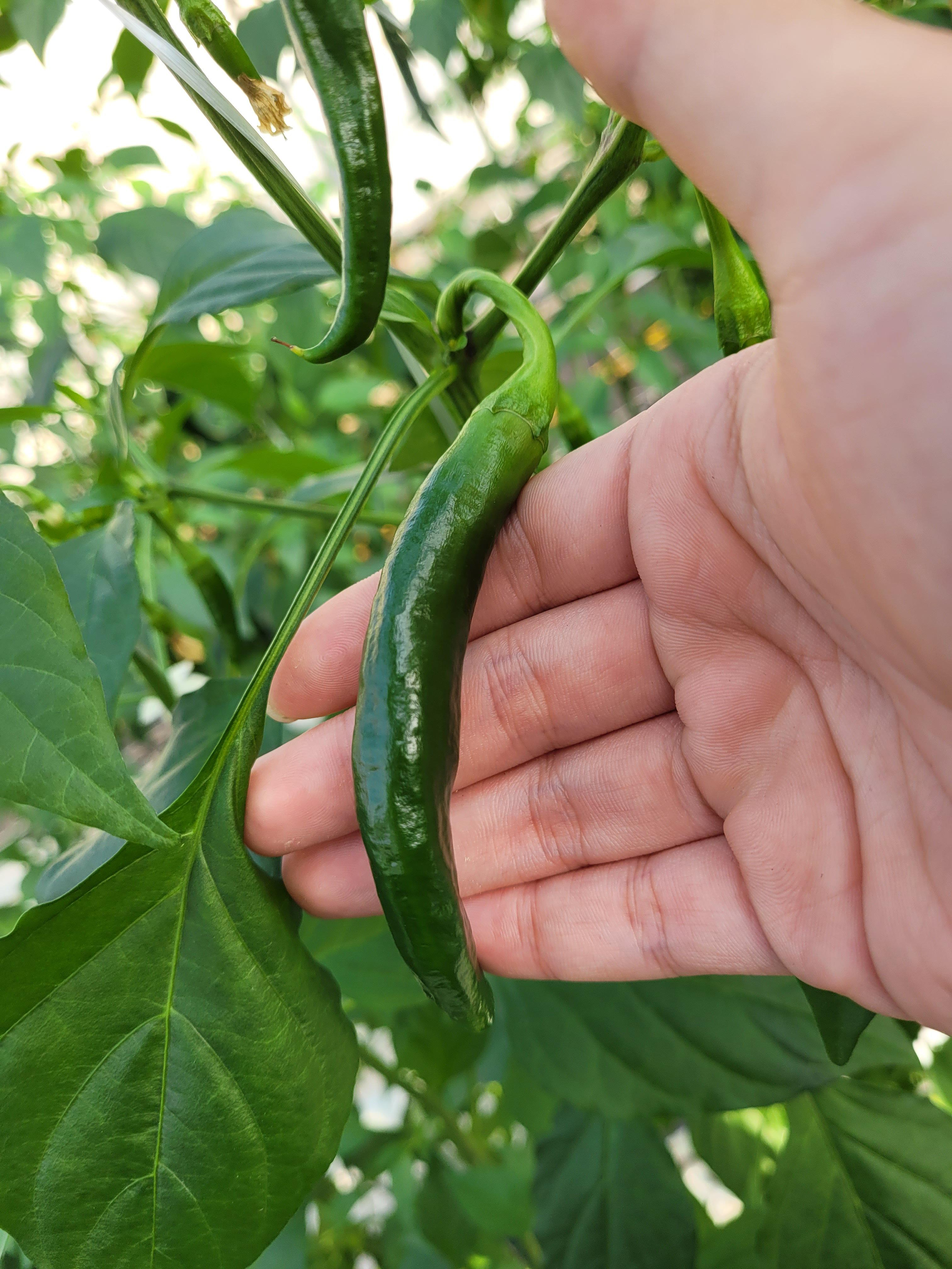Buah Cabai Sehat: (348, 273, 562, 1034)
Daun Cabai Sehat: (0, 684, 362, 1269)
